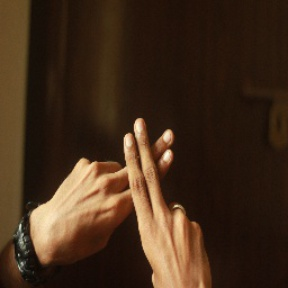F: (82, 110, 206, 248)
